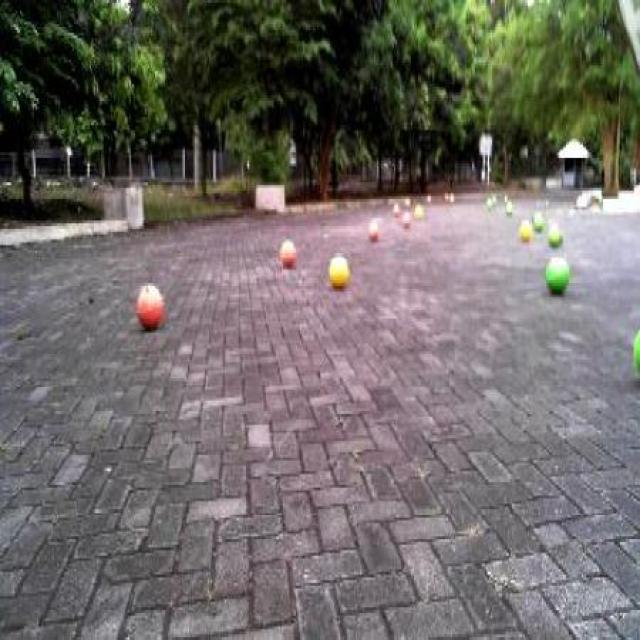buoy: (135, 275, 167, 338), (541, 245, 573, 302), (323, 245, 351, 291), (628, 318, 639, 392), (279, 235, 297, 268)
